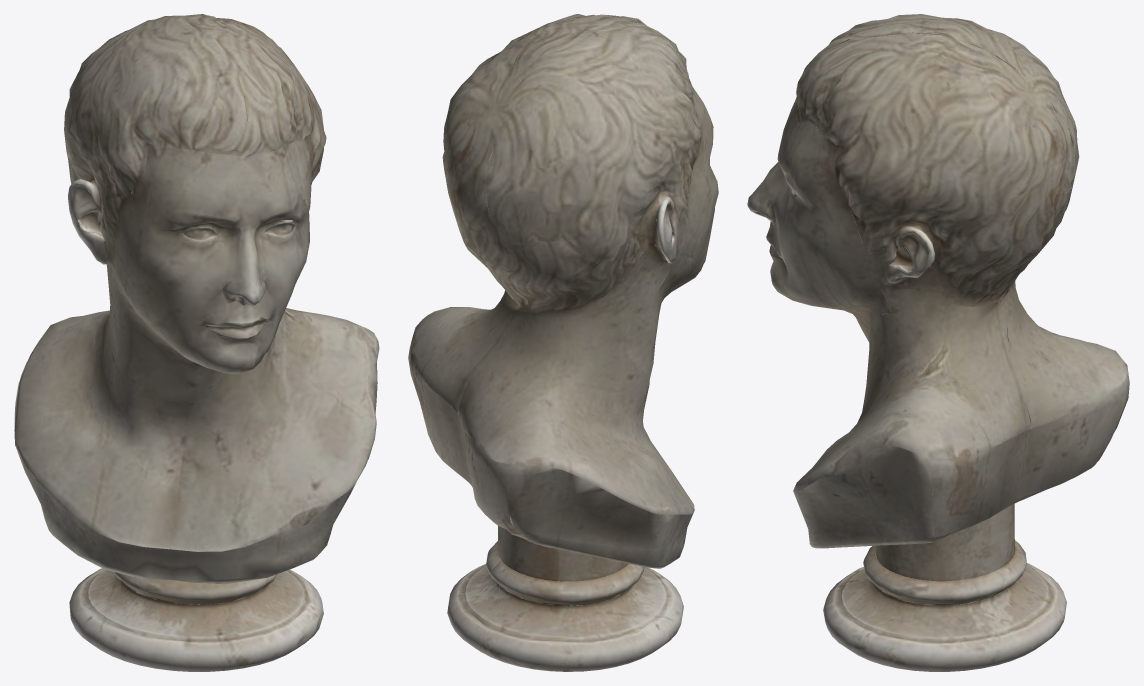
The model's file is marble_bust_01.glb.
3 views of the same model, side by side, from view 1: azimuth 30°, elevation 25°; view 2: azimuth 150°, elevation 25°; view 3: azimuth 270°, elevation 25° (orthographic). The views are drawn at different scales.
Parts seen in each view (by area): view 1: marble_bust_01; view 2: marble_bust_01; view 3: marble_bust_01.
Part boxes in pixels (x1,y1,x2,y2): marble_bust_01: (14, 14, 379, 671); marble_bust_01: (408, 14, 718, 671); marble_bust_01: (747, 14, 1129, 671).
Bounding box in the file's own units: 0.2716 × 0.515 × 0.2998.
1 material, 1 textured.
